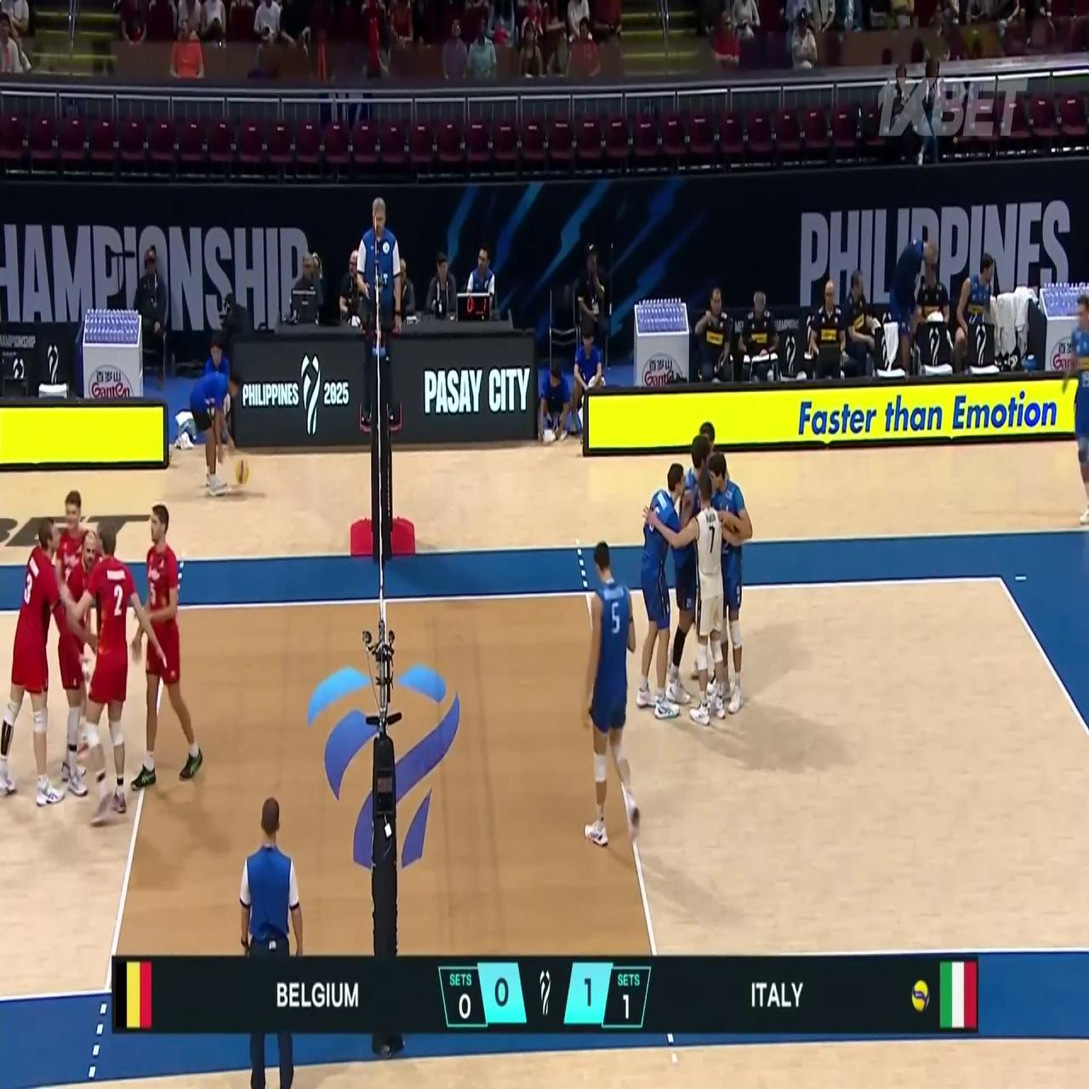ball: (235, 459, 249, 485)
